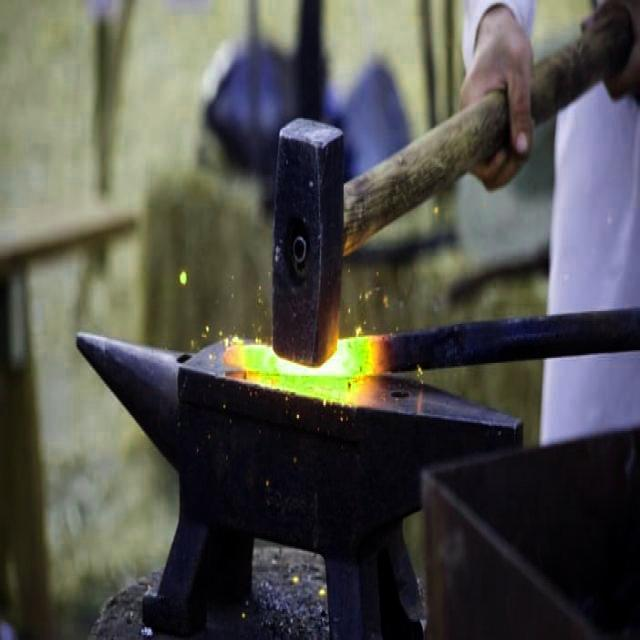hammer: (264, 2, 640, 370)
